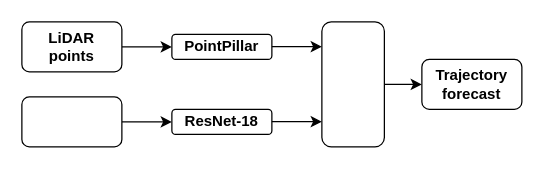
The diagram is 544 pixels wide and 169 high, and some of its shapes have lost their labels. Each missing label, with the centre of its shape:
Camera pictures: point 71,121
Transformer: point 352,84
